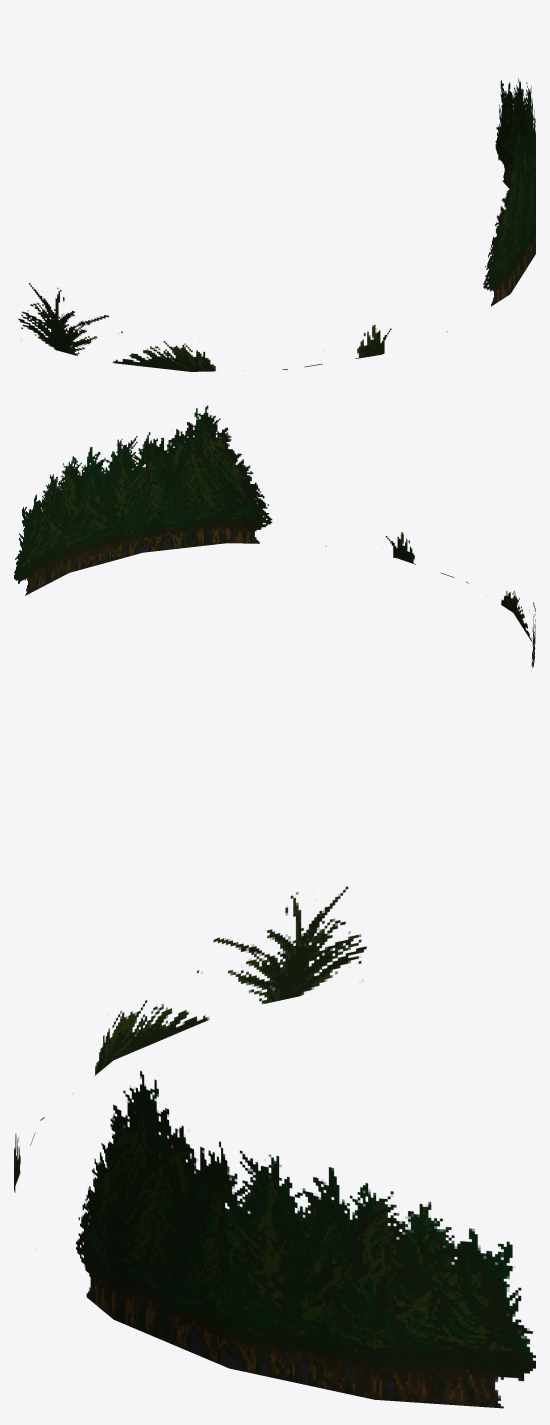
The model's file is cutscenetrees.glb.
The picture shows the model from 3 angles, top to bottom: view 1: azimuth 30°, elevation 25°; view 2: azimuth 150°, elevation 25°; view 3: azimuth 270°, elevation 25°; orthographic projection. The views are drawn at different scales.
Visible parts, largest first — view 1: planodetalhe_geo; view 2: planodetalhe_geo; view 3: planodetalhe_geo.
Part boxes in pixels (x1,y1,x2,y2): planodetalhe_geo: (18,78,535,371); planodetalhe_geo: (14,405,535,671); planodetalhe_geo: (14,886,535,1408).
Size of the model in its own units: 44.71 by 12.88 by 22.92.
1 material, 1 textured.
